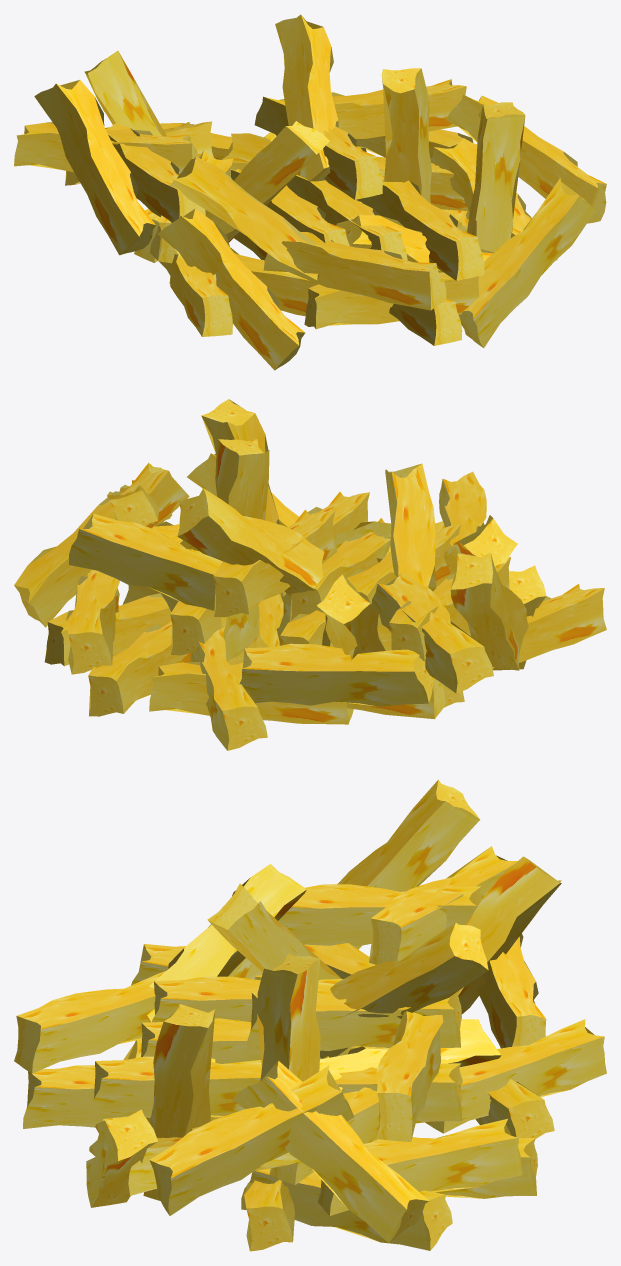
Rendered from cheese_hoopje.obj.
The picture shows the model from 3 angles, top to bottom: view 1: azimuth 30°, elevation 25°; view 2: azimuth 150°, elevation 25°; view 3: azimuth 270°, elevation 25°; orthographic projection. The views are drawn at different scales.
Visible parts, largest first — view 1: Cube.035_Cube.037, Cube.037_Cube.039, Cube.023_Cube.025, Cube.039_Cube.041, Cube.026_Cube.028, Cube.004_Cube.006, Cube.014_Cube.016, Cube.017_Cube.019, Cube.027_Cube.029, Cube.032_Cube.034, Cube.007_Cube.009, Cube.002_Cube.004 (+18 smaller); view 2: Cube.031_Cube.033, Cube.040_Cube.042, Cube.004_Cube.006, Cube.034_Cube.036, Cube.033_Cube.035, Cube.035_Cube.037, Cube.007_Cube.009, Cube.024_Cube.026, Cube.036_Cube.038, Cube.021_Cube.023, Cube.002_Cube.004, Cube.028_Cube.030 (+19 smaller); view 3: Cube.033_Cube.035, Cube.032_Cube.034, Cube.039_Cube.041, Cube.004_Cube.006, Cube.028_Cube.030, Cube.036_Cube.038, Cube.035_Cube.037, Cube.026_Cube.028, Cube.017_Cube.019, Cube.015_Cube.017, Cube.040_Cube.042, Cube.034_Cube.036 (+20 smaller).
Part boxes in pixels (left/top/right/bottom): Cube.035_Cube.037: left=34, top=80, right=155, bottom=255; Cube.037_Cube.039: left=458, top=178, right=595, bottom=347; Cube.023_Cube.025: left=158, top=208, right=305, bottom=370; Cube.039_Cube.041: left=263, top=232, right=446, bottom=310; Cube.026_Cube.028: left=467, top=102, right=525, bottom=251; Cube.004_Cube.006: left=275, top=14, right=338, bottom=181; Cube.014_Cube.016: left=169, top=157, right=319, bottom=279; Cube.017_Cube.019: left=381, top=68, right=431, bottom=203; Cube.027_Cube.029: left=357, top=180, right=484, bottom=280; Cube.032_Cube.034: left=446, top=94, right=606, bottom=223; Cube.007_Cube.009: left=205, top=121, right=329, bottom=242; Cube.002_Cube.004: left=254, top=96, right=382, bottom=199; Cube.031_Cube.033: left=239, top=643, right=434, bottom=706; Cube.040_Cube.042: left=69, top=513, right=223, bottom=610; Cube.004_Cube.006: left=177, top=488, right=324, bottom=595; Cube.034_Cube.036: left=371, top=572, right=493, bottom=693; Cube.033_Cube.035: left=14, top=462, right=189, bottom=627; Cube.035_Cube.037: left=450, top=552, right=528, bottom=670; Cube.007_Cube.009: left=385, top=463, right=436, bottom=591; Cube.024_Cube.026: left=88, top=620, right=190, bottom=716; Cube.036_Cube.038: left=190, top=627, right=267, bottom=750; Cube.021_Cube.023: left=149, top=662, right=353, bottom=724; Cube.002_Cube.004: left=213, top=509, right=336, bottom=617; Cube.028_Cube.030: left=66, top=570, right=119, bottom=674; Cube.033_Cube.035: left=232, top=1061, right=428, bottom=1242; Cube.032_Cube.034: left=149, top=1065, right=354, bottom=1215; Cube.039_Cube.041: left=14, top=971, right=165, bottom=1073; Cube.004_Cube.006: left=320, top=922, right=488, bottom=1058; Cube.028_Cube.030: left=318, top=1118, right=522, bottom=1215; Cube.036_Cube.038: left=425, top=1019, right=606, bottom=1133; Cube.035_Cube.037: left=337, top=779, right=480, bottom=949; Cube.026_Cube.028: left=143, top=1004, right=215, bottom=1200; Cube.017_Cube.019: left=257, top=953, right=320, bottom=1081; Cube.015_Cube.017: left=278, top=884, right=481, bottom=946; Cube.040_Cube.042: left=376, top=1011, right=443, bottom=1141; Cube.034_Cube.036: left=369, top=846, right=517, bottom=964.
Size of the model in its own units: 0.1537 by 0.0717 by 0.1432.
1 material, 1 textured.
